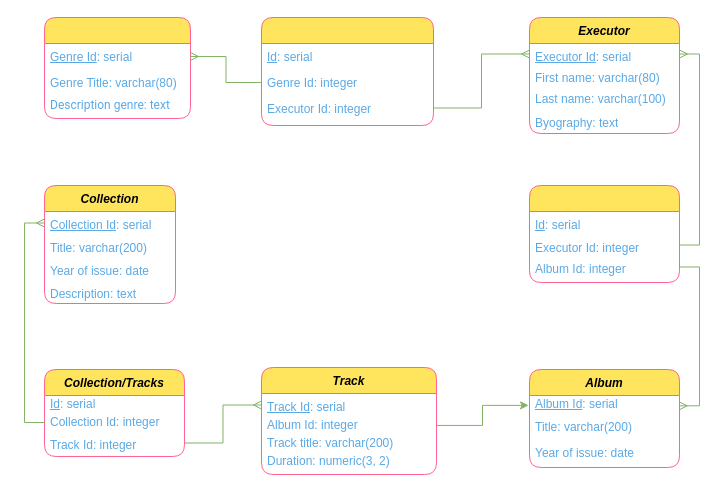
The diagram is 725 pixels wide and 492 high, and some of its shapes have lost their labels. The shapes that lost their labels are listed below. From the top down, each one's box as (x1, y1, x2, y2) in pixels, then its label:
(44, 16, 190, 118): Musical genre
(260, 16, 434, 126): Musical genre/Executor
(528, 184, 680, 282): Joint album
